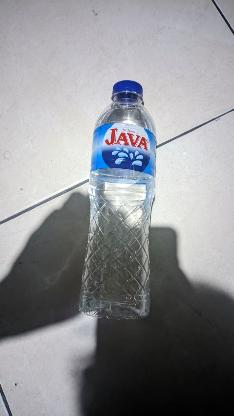Plastic Bottle: (83, 78, 156, 320)
